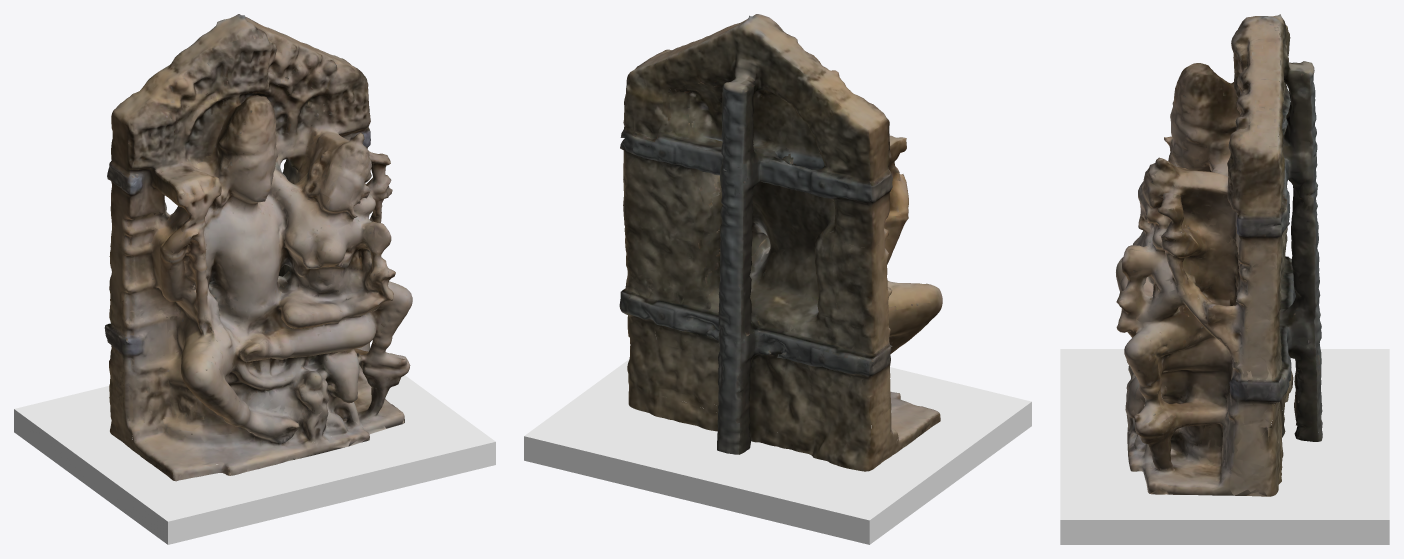
Rendered from shiva-parvati-hi.glb.
3 renders of one model, left to right at view 1: azimuth 30°, elevation 25°; view 2: azimuth 150°, elevation 25°; view 3: azimuth 270°, elevation 25°, orthographic. The views are drawn at different scales.
Parts seen in each view (by area): view 1: Object_6, Object_4, Object_8, Object_7, Object_5, Object_3; view 2: Object_3, Object_8, Object_4, Object_7, Object_6, Object_5; view 3: Object_8, Object_5, Object_6, Object_4, Object_7, Object_3.
Part boxes in pixels (x1,y1,x2,y2): Object_6: (169,73,408,471); Object_4: (108,16,370,481); Object_8: (14,375,495,544); Object_7: (104,15,370,478); Object_5: (114,53,412,468); Object_3: (104,14,404,480); Object_3: (619,14,940,471); Object_8: (524,359,1031,544); Object_4: (620,19,942,450); Object_7: (621,15,942,459); Object_6: (620,72,940,415); Object_5: (620,66,892,407); Object_8: (1060,349,1389,544); Object_5: (1116,25,1289,496); Object_6: (1116,68,1291,487); Object_4: (1116,24,1321,460); Object_7: (1121,17,1321,469); Object_3: (1122,14,1322,496).
Bounding box in the file's own units: 2.66 × 3.23 × 2.16.
2 materials, 1 textured.
